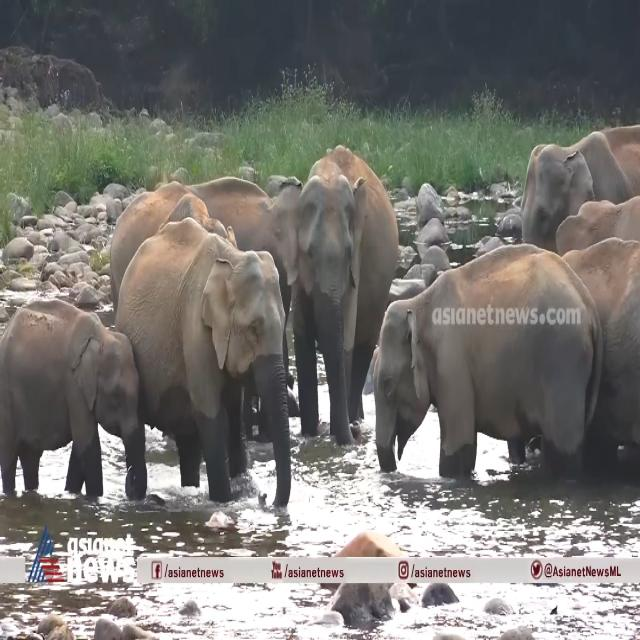ELEPHANT: (121, 216, 298, 509), (2, 303, 148, 507)
